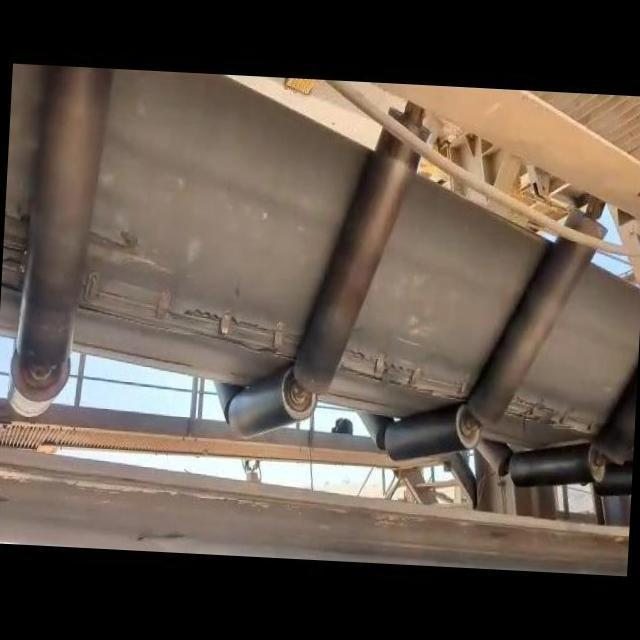Tear: (80, 264, 307, 376), (334, 330, 479, 410), (506, 381, 605, 442), (0, 203, 36, 289)
Wear: (82, 221, 178, 278)
